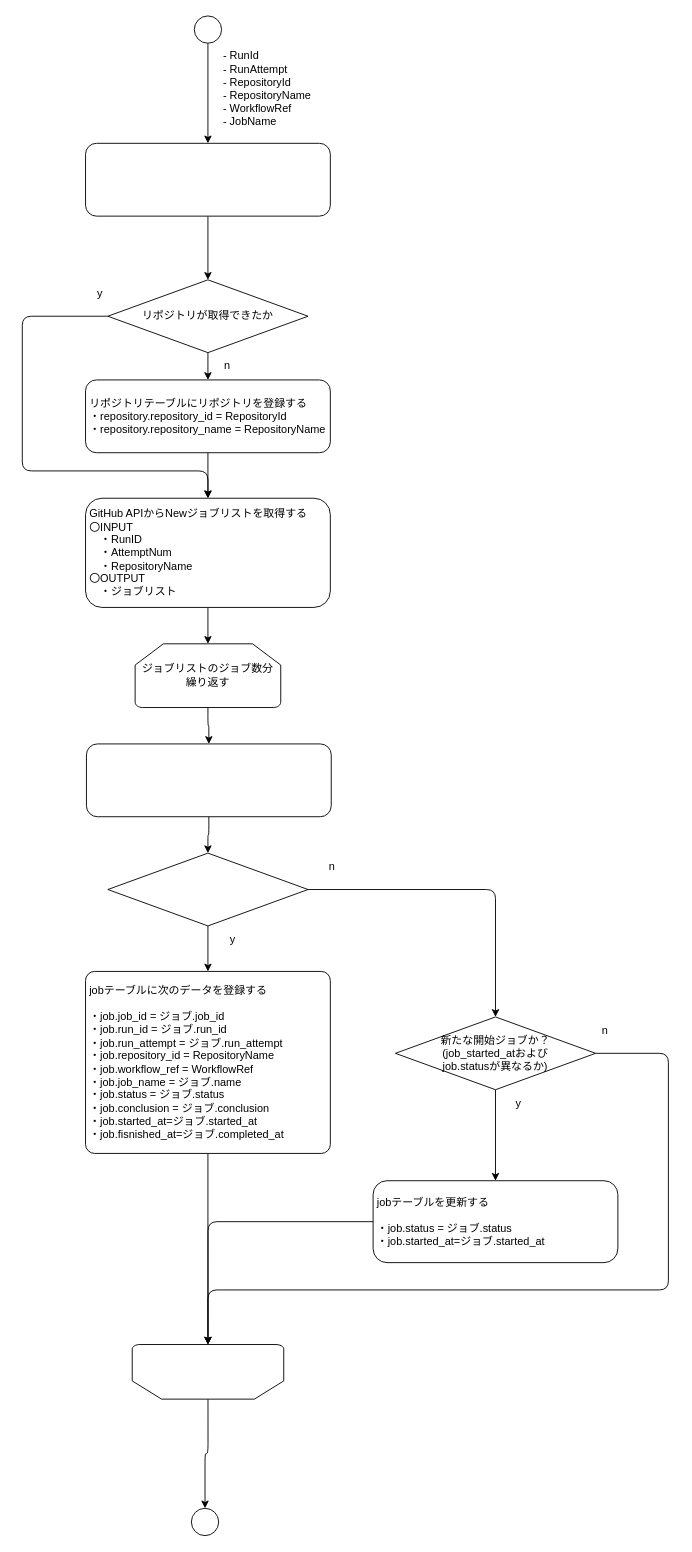
This 692x1552 diagram has some shape labels left out. Here are the shapes that lost their labels. From the top down, the centre of each, then its label:
(x=207, y=179): リポジトリテーブルから、RepositoryNameに一致する行を取得する
(x=208, y=780): jobレコードからジョブ.idに一致するDBジョブを取得する
(x=207, y=889): 新規ジョブか？ (DBジョブが取得できない)
